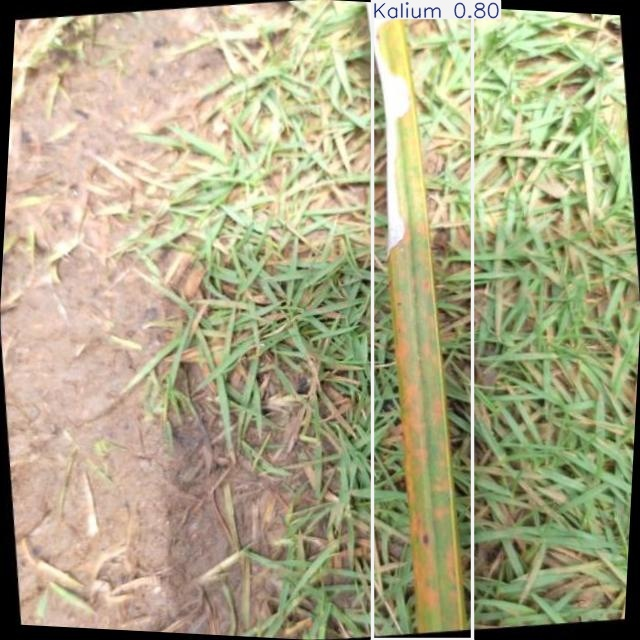Kalium: (373, 0, 473, 640)
